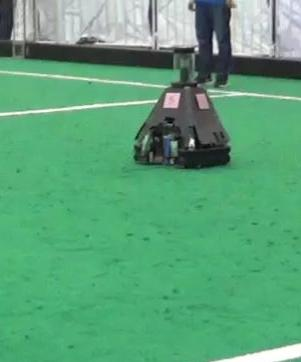robot: (128, 35, 234, 171)
